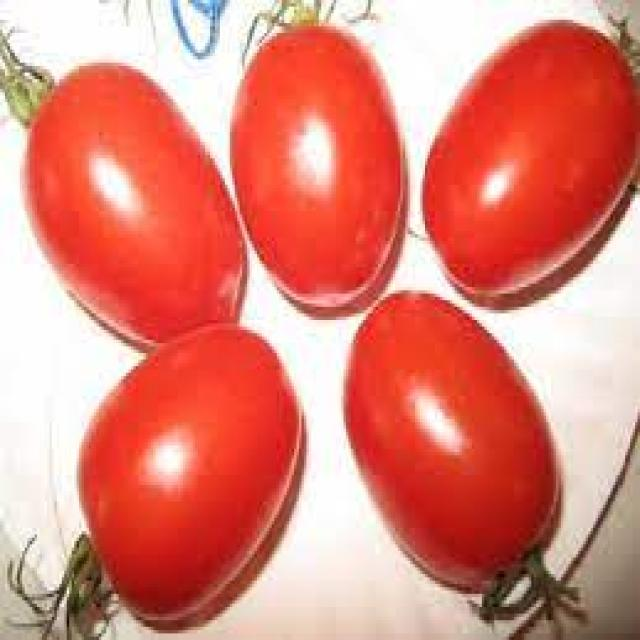Fresh_tomato: (437, 5, 640, 293), (4, 78, 249, 308), (361, 312, 552, 606), (75, 425, 322, 612), (255, 27, 394, 311), (116, 324, 304, 465), (209, 448, 213, 490), (325, 414, 330, 420)
